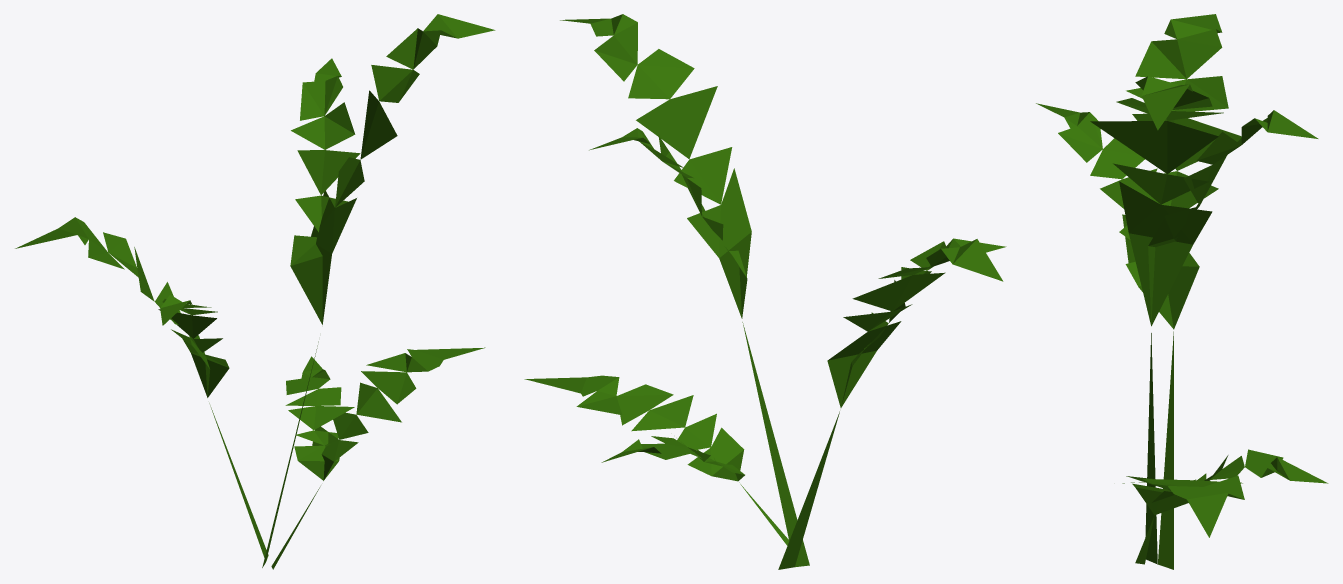
Rendered from obj_jungle_plant_9_0.obj.
3 views of the same model, side by side, from view 1: azimuth 30°, elevation 25°; view 2: azimuth 150°, elevation 25°; view 3: azimuth 270°, elevation 25° (orthographic). The views are drawn at different scales.
Bounding box in the file's own units: 1.56 × 1.57 × 0.7109.
